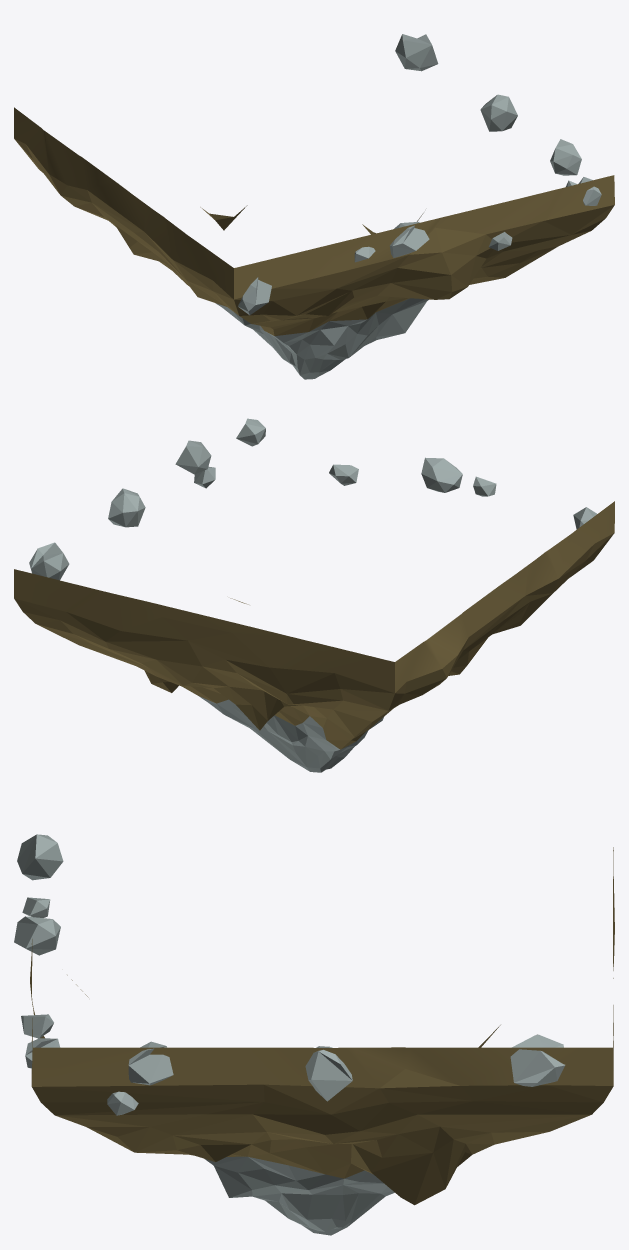
The model's file is Island.glb.
3 renders of one model, top to bottom at view 1: azimuth 30°, elevation 25°; view 2: azimuth 150°, elevation 25°; view 3: azimuth 270°, elevation 25°, orthographic. The views are drawn at different scales.
Visible parts, largest first — view 1: Plane1; view 2: Plane1; view 3: Plane1.
Boxes of the visible parts, x1,y1,x2,y2 form: Plane1: (14,34,614,379); Plane1: (14,418,614,772); Plane1: (14,834,614,1235).
Size of the model in its own units: 9.87 by 5.56 by 9.76.
